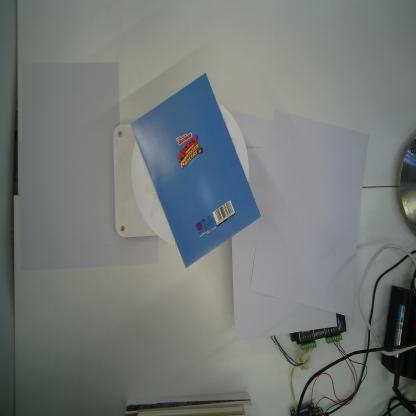Stationery: (129, 72, 262, 270)
